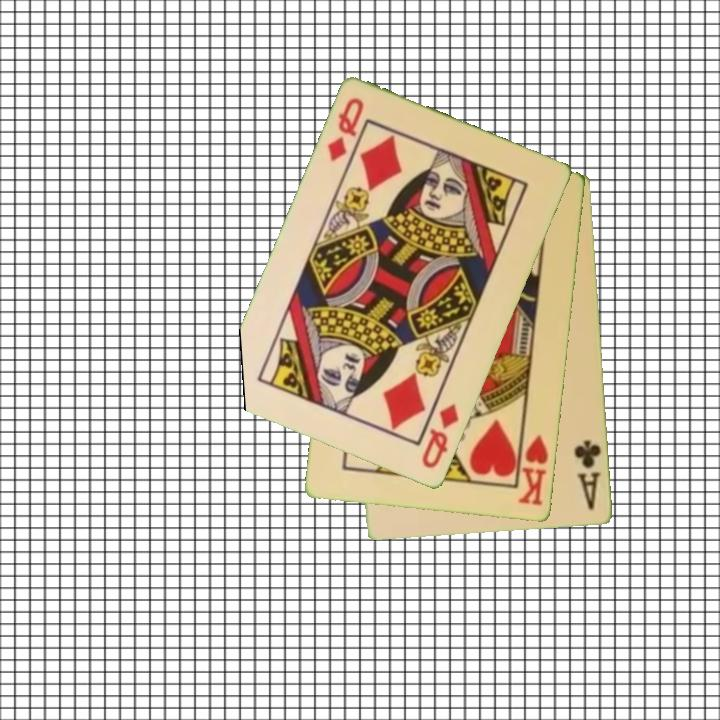Ac: (571, 437, 604, 513)
Kh: (514, 426, 552, 509)
Qd: (418, 400, 462, 472), (324, 94, 367, 165)
